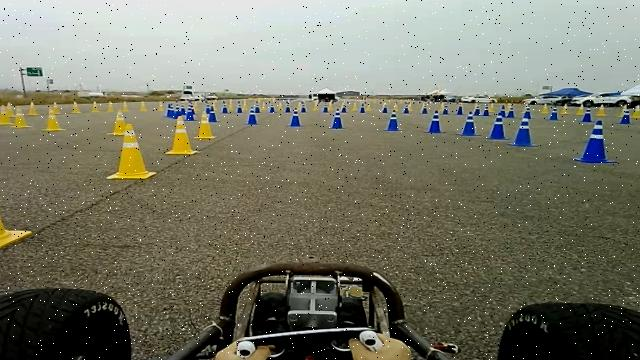blue cone: (573, 120, 618, 163), (508, 116, 539, 147), (423, 104, 446, 133), (457, 112, 482, 136), (487, 115, 511, 140), (386, 103, 403, 132)
yellow cone: (107, 124, 157, 180), (0, 202, 33, 252), (166, 115, 200, 155), (105, 105, 129, 139), (194, 110, 217, 139), (42, 106, 65, 134)
